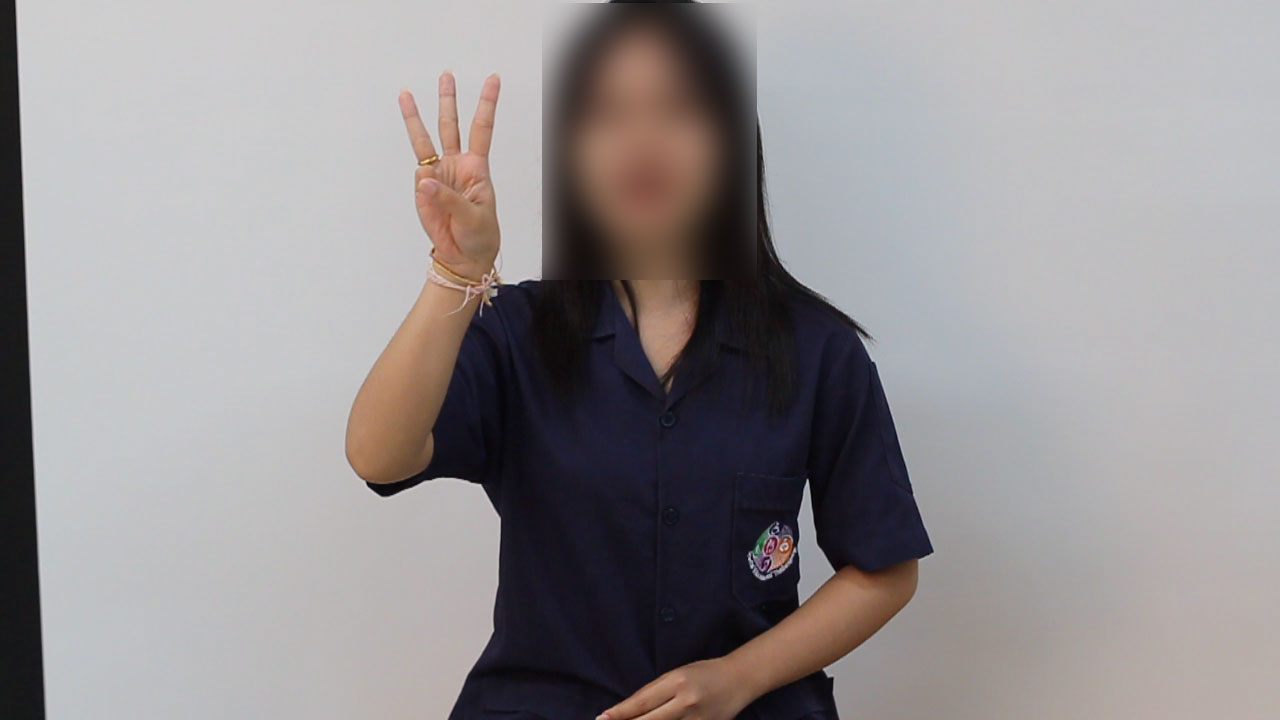wor: (385, 63, 511, 285)
